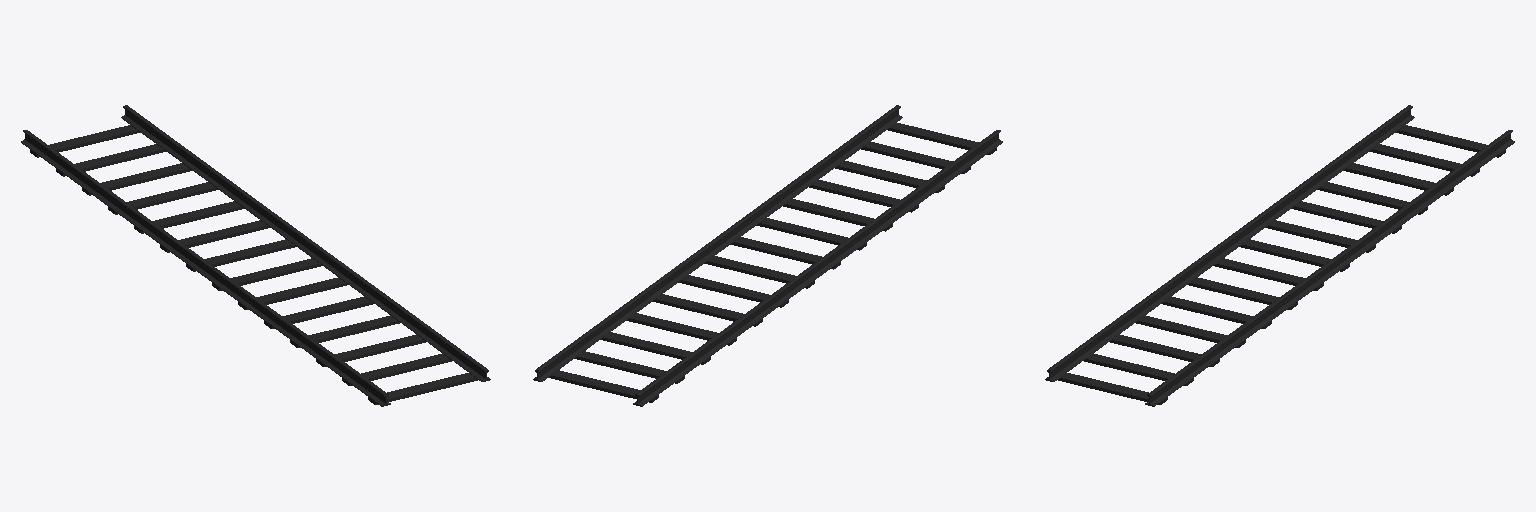
The robot description file, URDF, robot "Track_urdf":
<?xml version="1.0" encoding="utf-8"?>
<!-- This URDF was automatically created by SolidWorks to URDF Exporter! Originally created by [author] ([email redacted]) 
     Commit Version: 1.6.0-1-g15f4949  Build Version: 1.6.7594.29634
     For more information, please see http://wiki.ros.org/sw_urdf_exporter -->
<robot
  name="Track_urdf">
  <link
    name="base_link">
    <inertial>
      <origin
        xyz="-1.997E-05 0.3656 0.061179"
        rpy="0 0 0" />
      <mass
        value="384.05" />
      <inertia
        ixx="3225.1"
        ixy="0.00022399"
        ixz="0.00086812"
        iyy="153.12"
        iyz="-0.40106"
        izz="3375.2" />
    </inertial>
    <visual>
      <origin
        xyz="0 0 0"
        rpy="0 0 0" />
      <geometry>
        <mesh
          filename="package://Track_urdf/meshes/base_link.STL" />
      </geometry>
      <material
        name="Iron">
        <color
          rgba="0.2 0.2 0.2 1" />
      </material>
    </visual>
    <collision>
      <origin
        xyz="0 0 0"
        rpy="0 0 0" />
      <geometry>
        <mesh
          filename="package://Track_urdf/meshes/base_link.STL" />
      </geometry>
    </collision>
  </link>
</robot>

--- What the picture shows (computed from the rendered views, not written in the file) ---
3 views of the same robot in one strip: view 1: azimuth 30°, elevation 25°; view 2: azimuth 150°, elevation 25°; view 3: azimuth 330°, elevation 25° (orthographic).
Robot: Track_urdf — 1 links, 0 joints (none); root link base_link; default pose: every joint at zero.
Links seen in each view (by area): view 1: base_link; view 2: base_link; view 3: base_link.
Boxes of the visible links, x1=… form: base_link: x1=21, y1=105, x2=490, y2=406; base_link: x1=533, y1=105, x2=1002, y2=406; base_link: x1=1045, y1=105, x2=1514, y2=406.
Bounding box of the posed robot: 1.75 × 10 × 0.222 m (x, y, z).
Meshes: 1 distinct files referenced, 1 mesh visuals loaded (1 binary STL).